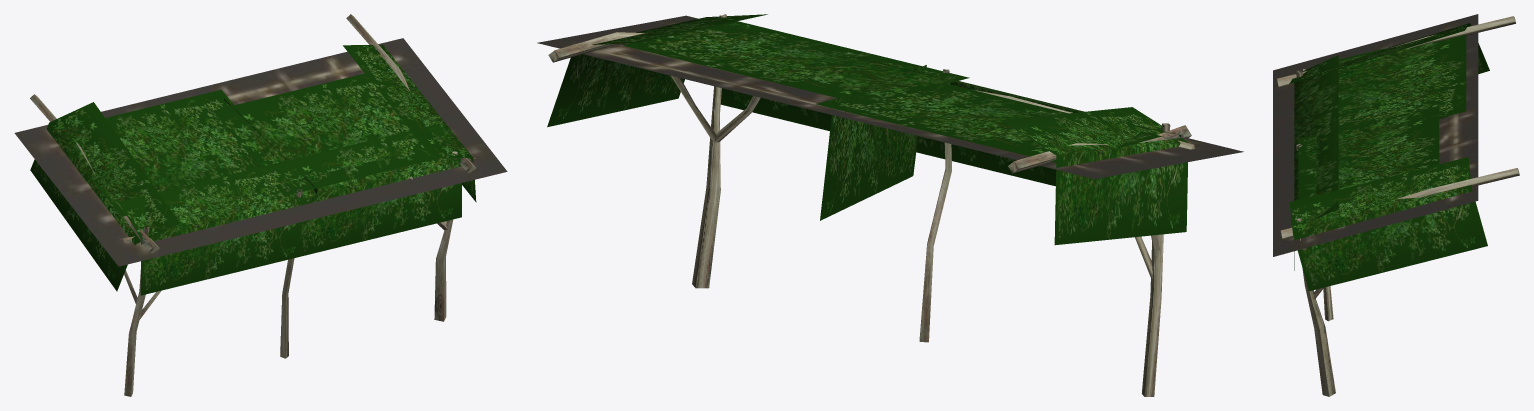
Rendered from trellis_d.fbx.
3 renders of one model, left to right at view 1: azimuth 30°, elevation 25°; view 2: azimuth 150°, elevation 25°; view 3: azimuth 270°, elevation 25°, orthographic. The views are drawn at different scales.
Parts seen in each view (by area): view 1: plane_trelis2, vines_flat1, vines_bent, vines_bent1, vines_flat, vines_bent3, vines_bent2, plane_trelis1, vines_flat_normals.001, post_vert1, post_vert3, vines_flat_normals (+3 smaller); view 2: vines_bent3, vines_flat1, plane_trelis2, vines_flat, vines_bent2, vines_flat_normals.002, vines_flat_normals.001, post_vert1, vines_bent1, vines_bent, post_vert3, post_vert2 (+6 smaller); view 3: vines_bent2, plane_trelis2, vines_flat, vines_flat1, vines_bent, plane_trelis1, vines_flat_normals, vines_bent1, post_vert1, vines_bent3, vines_flat_normals.001, post_horiz1 (+3 smaller).
Part boxes in pixels (left/top/right/bottom): plane_trelis2: left=14, top=38, right=507, bottom=266; vines_flat1: left=213, top=73, right=438, bottom=195; vines_bent: left=118, top=163, right=304, bottom=295; vines_bent1: left=276, top=123, right=461, bottom=256; vines_flat: left=90, top=89, right=259, bottom=216; vines_bent3: left=30, top=102, right=180, bottom=291; vines_bent2: left=343, top=45, right=476, bottom=202; plane_trelis1: left=16, top=133, right=505, bottom=257; vines_flat_normals.001: left=214, top=111, right=436, bottom=189; post_vert1: left=434, top=151, right=457, bottom=321; post_vert3: left=124, top=226, right=149, bottom=396; vines_flat_normals: left=92, top=148, right=249, bottom=195; vines_bent3: left=1001, top=107, right=1188, bottom=245; vines_flat1: left=623, top=21, right=969, bottom=105; plane_trelis2: left=537, top=15, right=1243, bottom=178; vines_flat: left=815, top=84, right=1161, bottom=162; vines_bent2: left=547, top=14, right=767, bottom=127; vines_flat_normals.002: left=820, top=65, right=926, bottom=220; vines_flat_normals.001: left=733, top=21, right=963, bottom=104; post_vert1: left=692, top=15, right=726, bottom=288; vines_bent1: left=691, top=17, right=955, bottom=160; vines_bent: left=916, top=72, right=1180, bottom=186; post_vert3: left=1141, top=123, right=1170, bottom=396; post_vert2: left=919, top=69, right=951, bottom=342; vines_bent2: left=1289, top=157, right=1487, bottom=291; plane_trelis2: left=1273, top=14, right=1478, bottom=256; vines_flat: left=1338, top=35, right=1466, bottom=129; vines_flat1: left=1298, top=106, right=1439, bottom=199; vines_bent: left=1294, top=55, right=1338, bottom=153; plane_trelis1: left=1273, top=14, right=1476, bottom=255; vines_flat_normals: left=1338, top=37, right=1455, bottom=128; vines_bent1: left=1294, top=130, right=1338, bottom=270; post_vert1: left=1296, top=218, right=1335, bottom=396; vines_bent3: left=1289, top=23, right=1489, bottom=83; vines_flat_normals.001: left=1298, top=107, right=1436, bottom=195; post_horiz1: left=1280, top=168, right=1519, bottom=239.
Bounding box in the file's own units: 3433 × 1980 × 1918.
2 materials, 2 textured.
